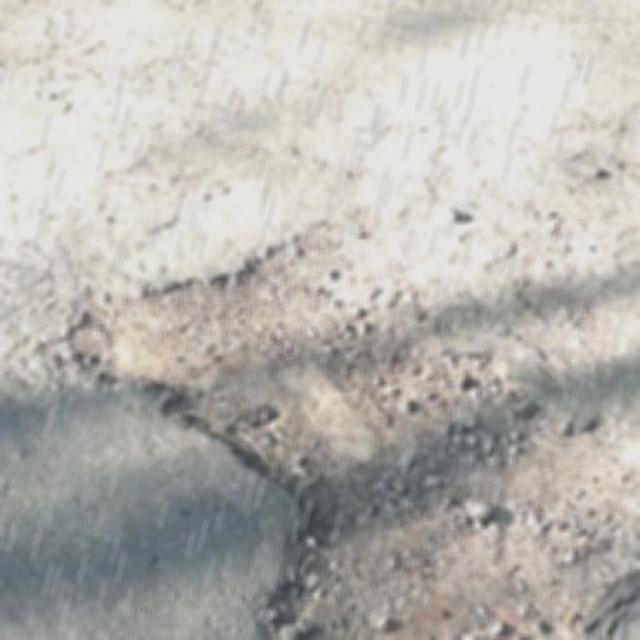road-pothole: (39, 201, 639, 639)
